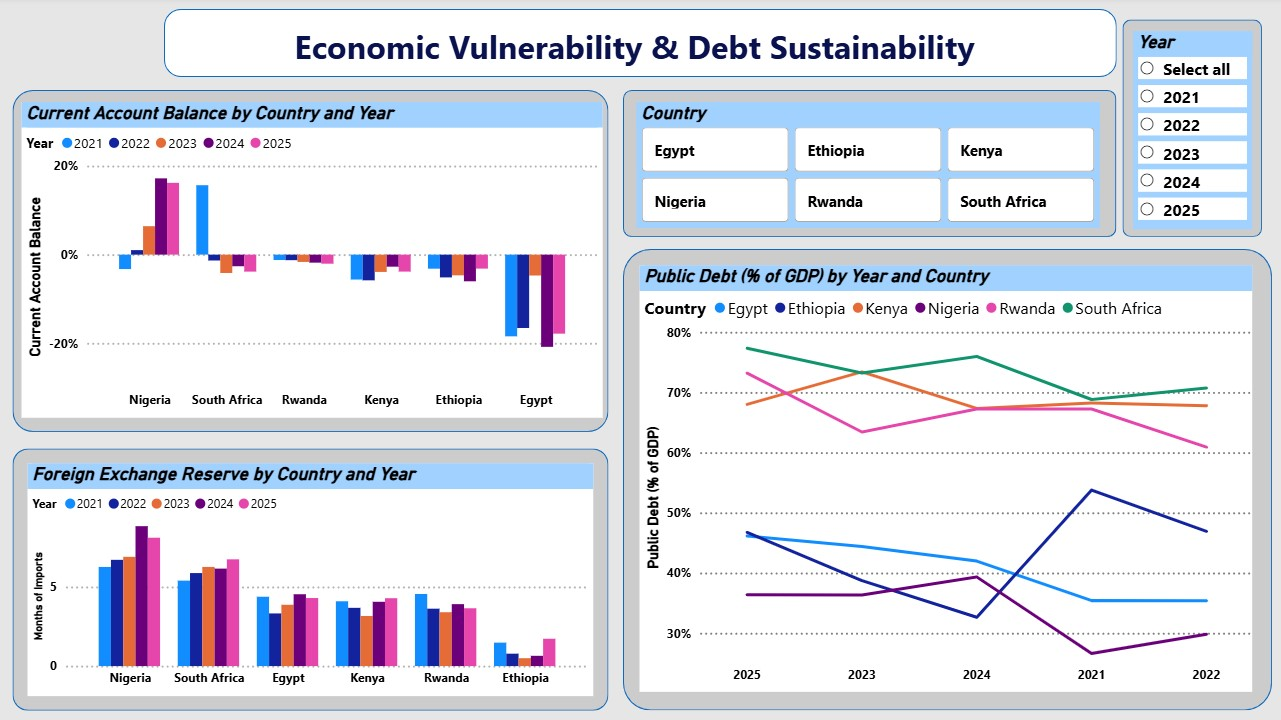

What the dashboard file says about the page in this screenshot:
{"tool":"powerbi","page":{"name":"Vulnerability  & Debt Analysis","canvas":[1280,720],"ordinal":3},"visuals":[{"type":"shape","box":[166.7,11.6,947.6,67.7],"z":0},{"type":"textbox","box":[274.1,16.5,731.4,61.1],"z":1000},{"type":"shape","box":[624,92.6,490.6,146.3],"z":2000},{"type":"advancedSlicerVisual","fields":{"Values":["Dim_Country.Country"]},"box":[637.3,104,460.6,125.5],"z":3000},{"type":"shape","box":[1121,23.1,138.7,216.3],"z":4000},{"type":"listSlicer","fields":{"Values":["Dim_Year.Year"]},"box":[1130.9,34.7,118.9,196.5],"z":5000},{"type":"shape","box":[16.5,92.5,592.7,340.1],"z":6000},{"type":"clusteredColumnChart","title":"Current Account Balance by Country and Year","fields":{"Category":["Dim_Country.Country"],"Series":["Dim_Year.Year"],"Y":["Fact_Macro.Current Account Balance"]},"box":[31.4,104,563,313.7],"z":7000},{"type":"shape","box":[16.5,449,592.7,260.8],"z":8000},{"type":"clusteredColumnChart","title":"Foreign Exchange Reserve by Country and Year","fields":{"Category":["Dim_Country.Country"],"Series":["Dim_Year.Year"],"Y":["Fact_Macro.Raw FX Reserves"]},"box":[31.4,463.9,563,231.1],"z":9000},{"type":"shape","box":[624,250.9,645.5,459],"z":10000},{"type":"lineChart","fields":{"Category":["Dim_Year.Year"],"Series":["Fact_Macro.Country"],"Y":["Fact_Macro.Public Debt (% of GDP)"]},"box":[640.6,267.4,609.2,424.3],"z":11000}]}

Visuals, with their boxes in screenshot pixels (x1, y1, x2, y2), scaled from the page's 1280x720 canvas onto the 1281x720 screenshot:
shape: <box>167,12,1115,79</box>
textbox: <box>274,16,1006,78</box>
shape: <box>624,93,1115,239</box>
advancedSlicerVisual - Dim_Country.Country: <box>638,104,1099,230</box>
shape: <box>1122,23,1261,239</box>
listSlicer - Dim_Year.Year: <box>1132,35,1251,231</box>
shape: <box>17,92,610,433</box>
"Current Account Balance by Country and Year" clusteredColumnChart: <box>31,104,595,418</box>
shape: <box>17,449,610,710</box>
"Foreign Exchange Reserve by Country and Year" clusteredColumnChart: <box>31,464,595,695</box>
shape: <box>624,251,1270,710</box>
lineChart - Dim_Year.Year x Fact_Macro.Country: <box>641,267,1251,692</box>
